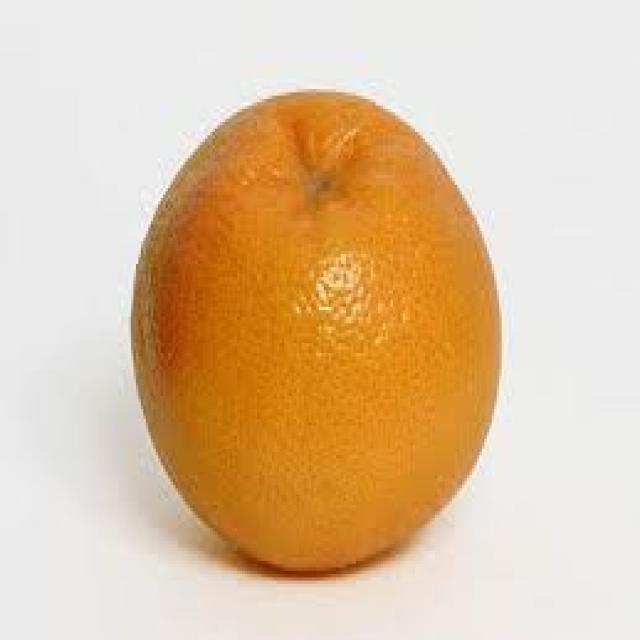Orange: (116, 52, 551, 604)
